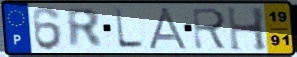6: (31, 5, 65, 52)
A: (145, 6, 192, 51)
H: (225, 5, 269, 53)
L: (113, 7, 146, 50)
R: (64, 7, 106, 50), (191, 7, 230, 51)
